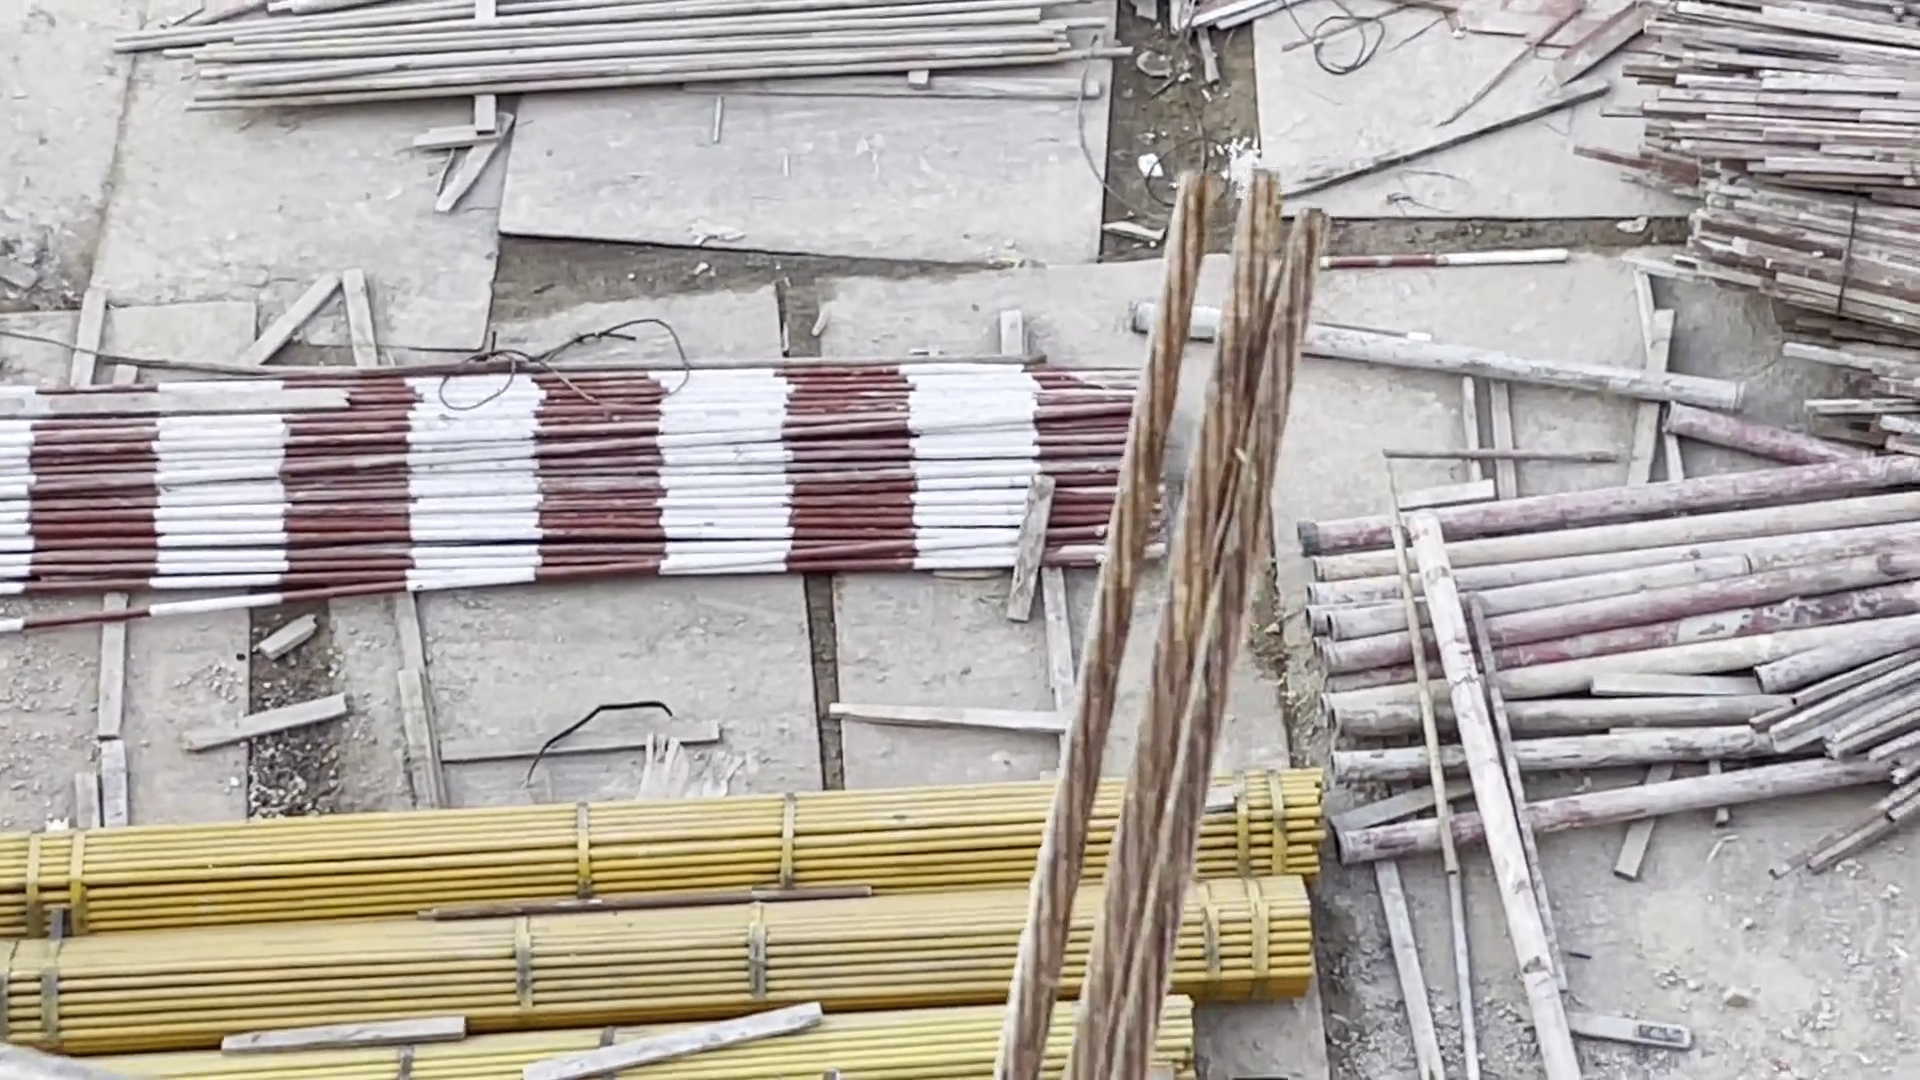scaffold: (1317, 492, 1878, 864)
wood: (1629, 4, 1920, 443)
